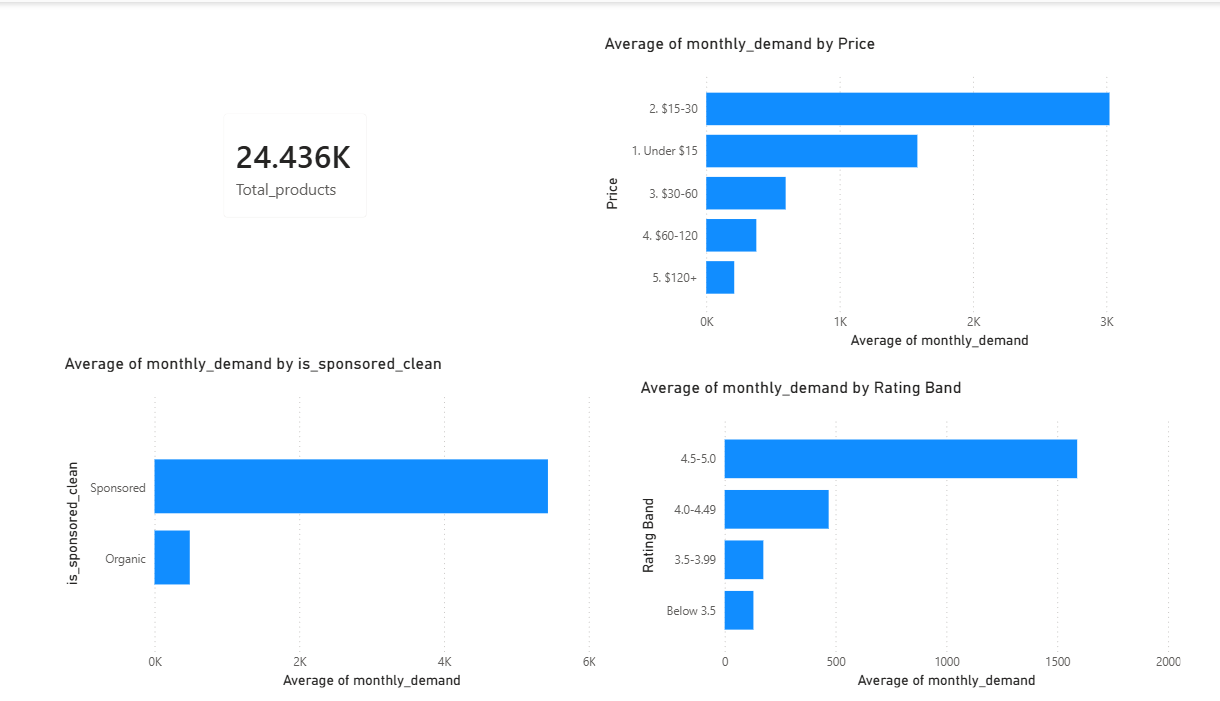

What the dashboard file says about the page in this screenshot:
{"tool":"powerbi","page":{"name":"Page 1","canvas":[1280,720],"ordinal":0},"visuals":[{"type":"clusteredBarChart","fields":{"Category":["amazon_clean.is_sponsored_clean"],"Y":["Avg(amazon_clean.monthly_demand)"]},"box":[66.1,359.1,553.7,347.7],"z":0},{"type":"clusteredBarChart","fields":{"Category":["amazon_clean.Price"],"Y":["Avg(amazon_clean.monthly_demand)"]},"box":[619.8,32.1,599.1,326.9],"z":1000},{"type":"clusteredBarChart","fields":{"Category":["amazon_clean.Rating Band"],"Y":["Avg(amazon_clean.monthly_demand)"]},"box":[655.8,383.6,563.2,323.2],"z":2000},{"type":"cardVisual","fields":{"Data":["CountNonNull(amazon_clean.monthly_demand)"]},"box":[217.3,96.4,181.4,141.7],"z":2001}]}

Visuals, with their boxes in screenshot pixels (x1, y1, x2, y2), scaled from the page's 1280x720 canvas onto the 1220x701 screenshot:
clusteredBarChart - amazon_clean.is_sponsored_clean x Avg(amazon_clean.monthly_demand): BBox(63, 350, 591, 688)
clusteredBarChart - amazon_clean.Price x Avg(amazon_clean.monthly_demand): BBox(591, 31, 1162, 350)
clusteredBarChart - amazon_clean.Rating Band x Avg(amazon_clean.monthly_demand): BBox(625, 373, 1162, 688)
cardVisual - CountNonNull(amazon_clean.monthly_demand): BBox(207, 94, 380, 232)
